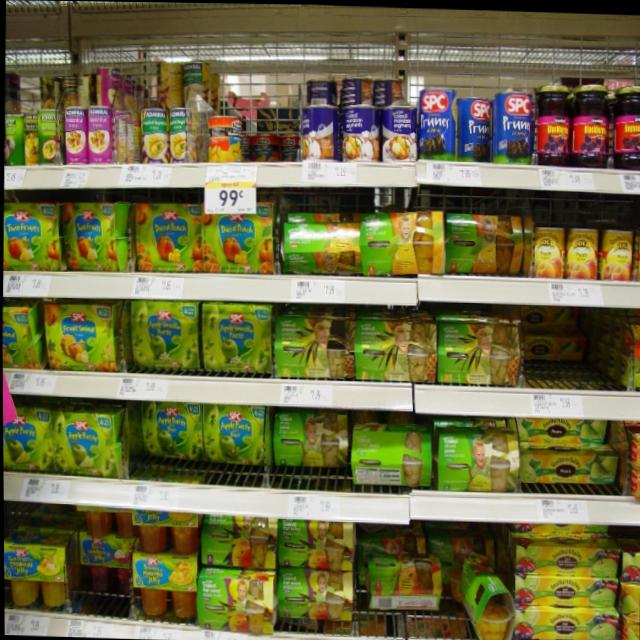q121: (132, 295, 201, 382), (195, 199, 275, 274), (41, 304, 119, 372), (66, 193, 131, 270), (134, 198, 197, 273), (206, 300, 268, 374), (2, 199, 61, 272)
